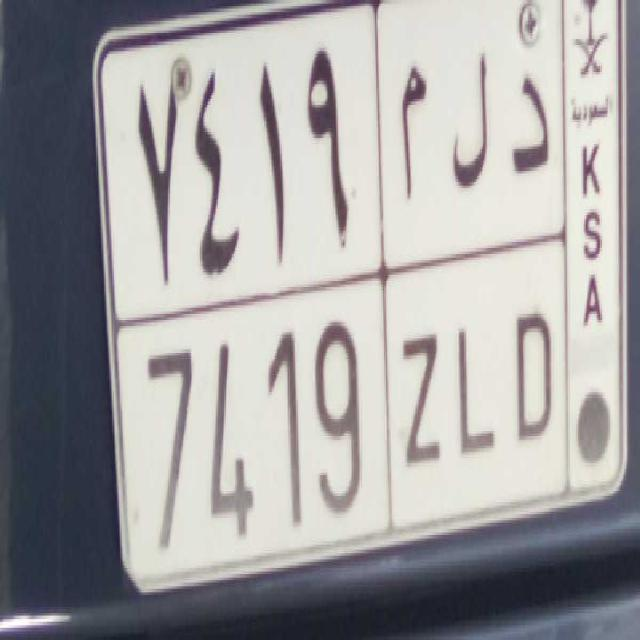license_plate: (143, 279, 564, 570)
